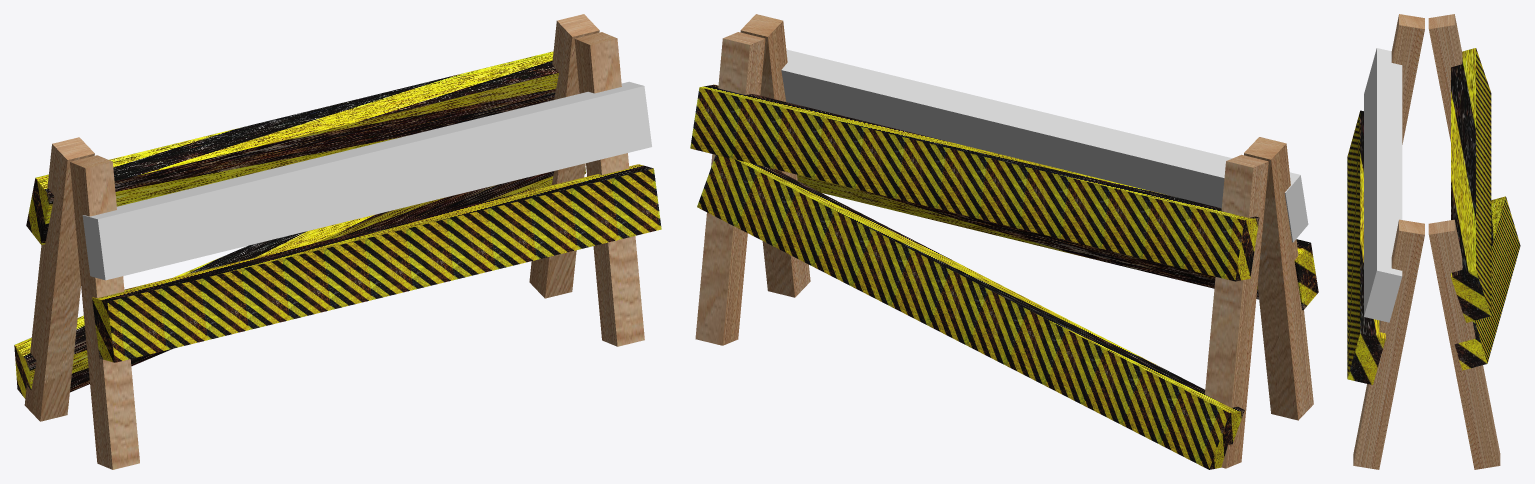
The model's file is HINDER.fbx.
3 views of the same model, side by side, from view 1: azimuth 30°, elevation 25°; view 2: azimuth 150°, elevation 25°; view 3: azimuth 270°, elevation 25° (orthographic). The views are drawn at different scales.
Visible parts, largest first — view 1: Cube.006, Cube, Cube.007, Cube.004, Cube.003, Cube.001, Cube.008, Cube.002; view 2: Cube.008, Cube.007, Cube, Cube.003, Cube.004, Cube.002, Cube.006, Cube.001; view 3: Cube.007, Cube, Cube.001, Cube.002, Cube.006, Cube.008, Cube.003, Cube.004.
Boxes of the visible parts, x1,y1,x2,y2 form: Cube.006: [92, 164, 661, 362]; Cube: [82, 81, 651, 280]; Cube.007: [26, 51, 558, 244]; Cube.004: [24, 137, 94, 421]; Cube.003: [70, 155, 139, 469]; Cube.001: [574, 32, 644, 346]; Cube.008: [14, 167, 585, 398]; Cube.002: [529, 14, 599, 298]; Cube.008: [697, 155, 1244, 469]; Cube.007: [690, 84, 1259, 281]; Cube: [781, 49, 1308, 242]; Cube.003: [1244, 137, 1313, 420]; Cube.004: [1205, 154, 1268, 468]; Cube.002: [695, 32, 765, 345]; Cube.006: [797, 174, 1318, 310]; Cube.001: [740, 14, 810, 297]; Cube.007: [1451, 48, 1491, 322]; Cube: [1364, 48, 1402, 322]; Cube.001: [1353, 219, 1424, 469]; Cube.002: [1428, 219, 1500, 469]; Cube.006: [1347, 110, 1385, 384]; Cube.008: [1454, 196, 1520, 370]; Cube.003: [1391, 14, 1424, 144]; Cube.004: [1428, 14, 1462, 141].
Size of the model in its own units: 405 by 200 by 131.
Materials: 3 (3 with a texture image).
